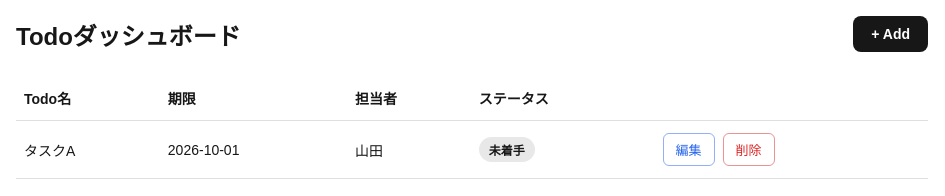
TodoDashboard › removes a todo from the list when TodoList reports a successful delete
The width and height of the screenshot is (945, 196).
Click the button "削除" at (748, 150), box [722,133,774,166]
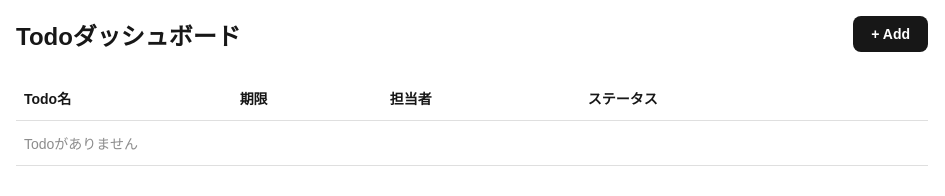
Result: the text "Todoがありません" is shown at [16,120,928,166]
